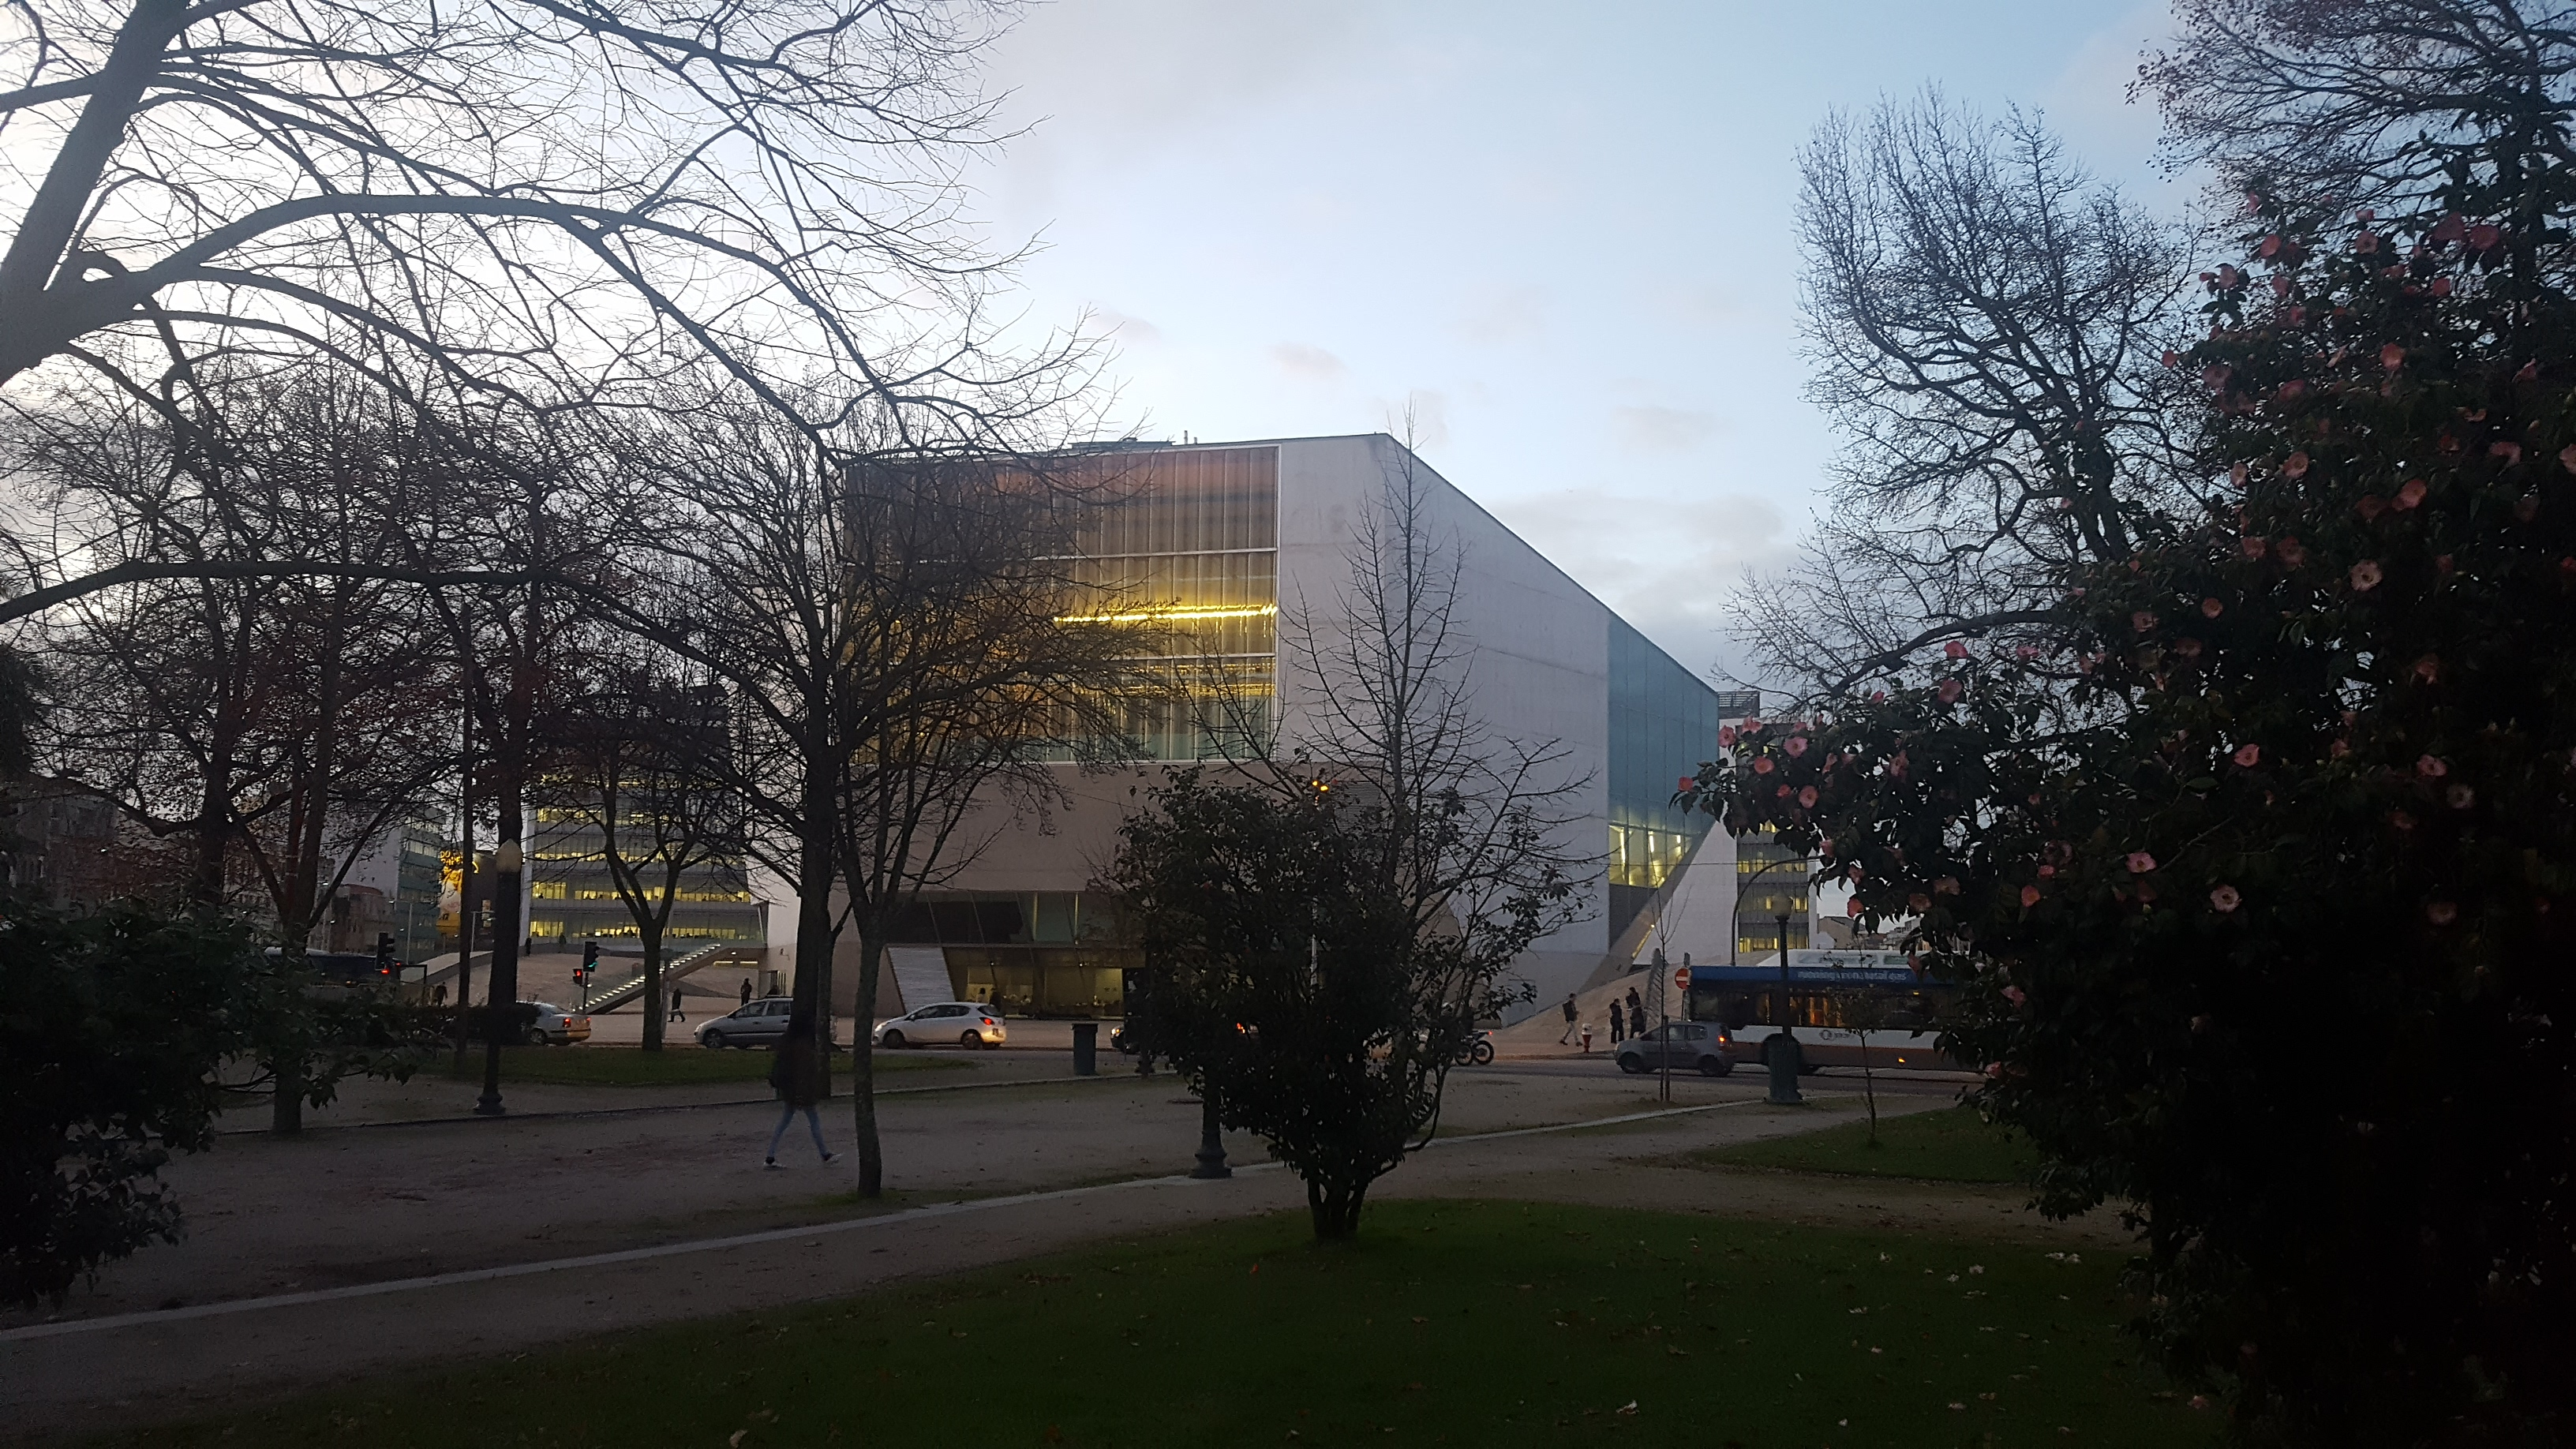musica: (798, 462, 821, 580)
